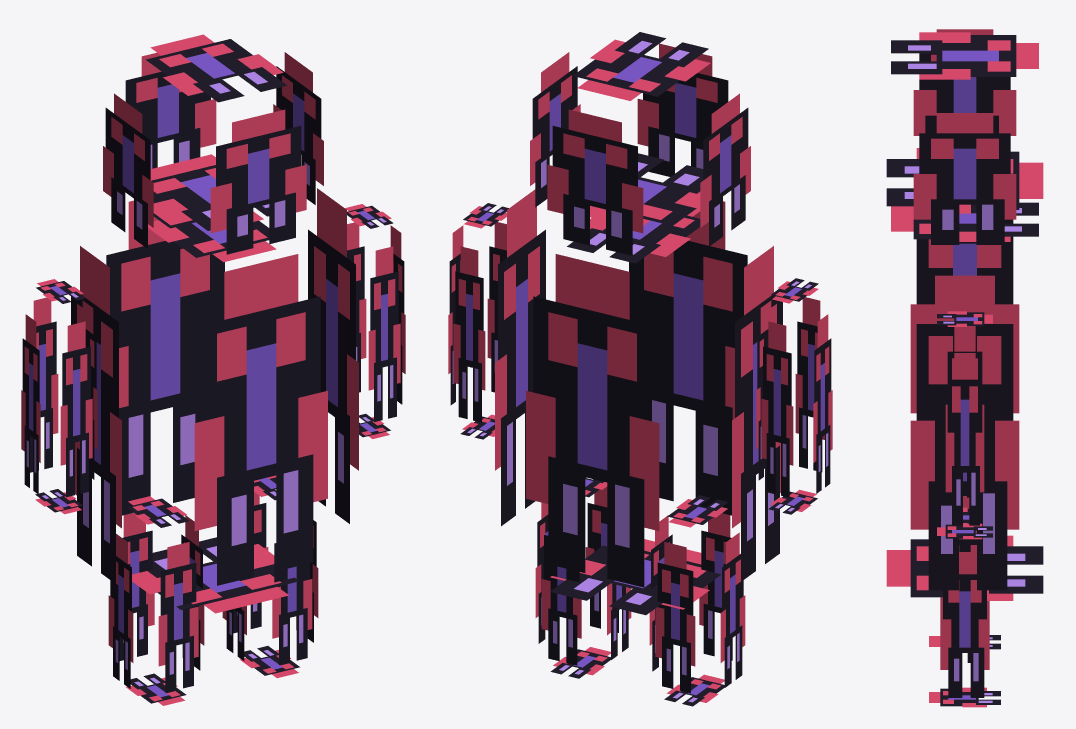
The model's file is enemy.glb.
3 renders of one model, left to right at view 1: azimuth 30°, elevation 25°; view 2: azimuth 150°, elevation 25°; view 3: azimuth 270°, elevation 25°, orthographic.
Parts seen in each view (by area): view 1: body, head, leg-left, arm-left, arm-right, leg-right; view 2: body, head, leg-left, arm-left, arm-right, leg-right; view 3: body, head, arm-right, leg-right, leg-left.
Part boxes in pixels (x1=…): body: x1=71, y1=154, x2=358, y2=613; head: x1=103, y1=34, x2=323, y2=262; leg-left: x1=108, y1=496, x2=204, y2=705; arm-left: x1=21, y1=279, x2=97, y2=514; arm-right: x1=345, y1=204, x2=405, y2=438; leg-right: x1=222, y1=475, x2=318, y2=678; body: x1=495, y1=153, x2=782, y2=615; head: x1=530, y1=32, x2=750, y2=263; leg-left: x1=649, y1=495, x2=745, y2=706; arm-left: x1=756, y1=278, x2=832, y2=514; arm-right: x1=448, y1=203, x2=508, y2=439; leg-right: x1=535, y1=477, x2=631, y2=678; body: x1=886, y1=148, x2=1043, y2=600; head: x1=891, y1=29, x2=1038, y2=244; arm-right: x1=937, y1=311, x2=992, y2=539; leg-right: x1=929, y1=507, x2=1000, y2=707; leg-left: x1=929, y1=493, x2=1000, y2=649.
Size of the model in its own units: 1.54 by 2.45 by 0.7.
Materials: 1 (1 with a texture image).
